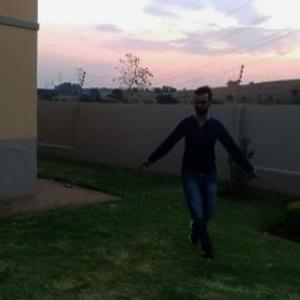land: (146, 77, 262, 263)
